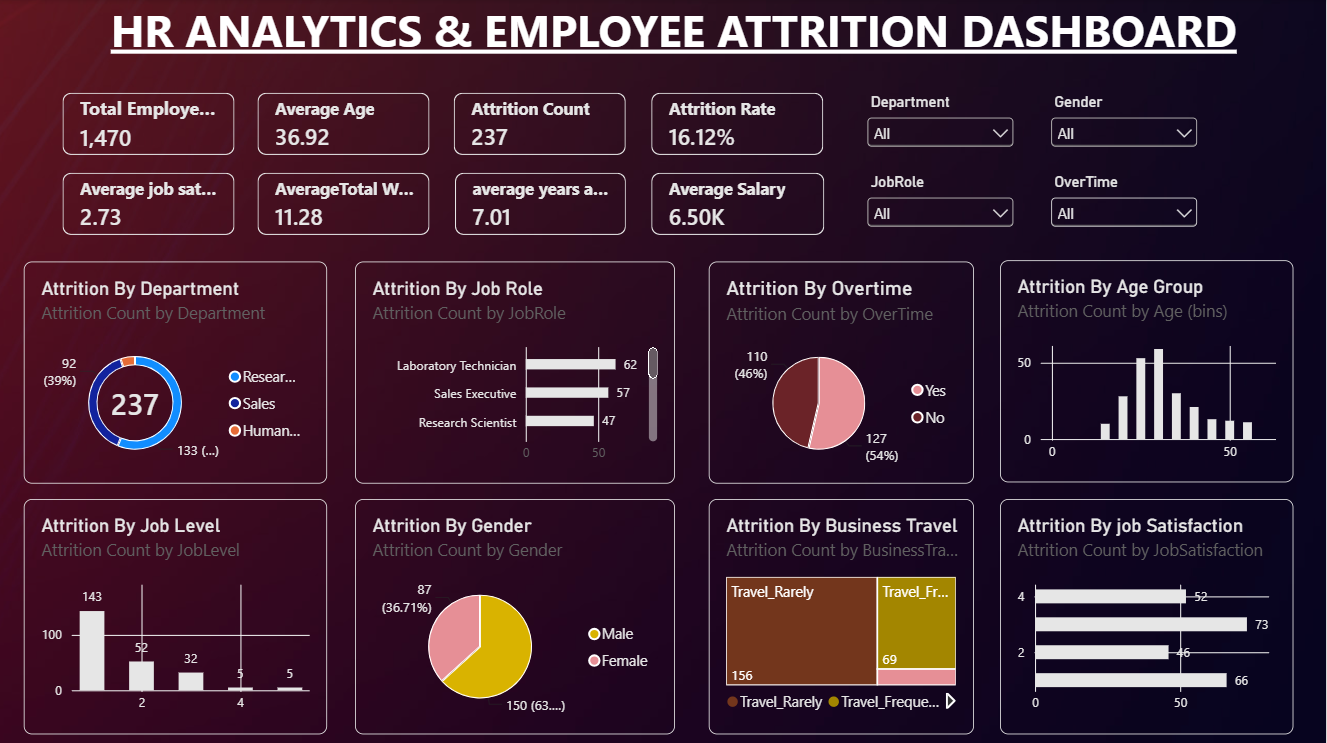

This screenshot's page, from the dashboard's own definition file:
{"tool":"powerbi","page":{"name":"Page 1","canvas":[1280,720],"ordinal":0},"visuals":[{"type":"cardVisual","fields":{"Data":["Table1.Total Employees Display"]},"box":[60.3,90.5,166.5,60.3],"z":0},{"type":"cardVisual","fields":{"Data":["Table1.Attrition Count"]},"box":[437.9,90.5,166.5,60.3],"z":1000},{"type":"cardVisual","fields":{"Data":["Table1.Attrition Rate"]},"box":[628.6,90.5,166.5,60.3],"z":2000},{"type":"cardVisual","fields":{"Data":["Table1.Average Age"]},"box":[248.5,90.5,166.5,60.3],"z":3000},{"type":"cardVisual","fields":{"Data":["Table1.Average Salary"]},"box":[628.6,167.7,167.7,60.3],"z":4000},{"type":"cardVisual","fields":{"Data":["Table1.average years at company"]},"box":[439.1,167.7,165.3,60.3],"z":5000},{"type":"cardVisual","fields":{"Data":["Table1.AverageTotal Working years"]},"box":[248.5,167.7,166.5,60.3],"z":6000},{"type":"cardVisual","fields":{"Data":["Table1.Average job satisfaction"]},"box":[60.3,167.7,166.5,60.3],"z":7000},{"type":"donutChart","title":"Attrition By Department","fields":{"Category":["Table1.Department"],"Y":["Table1.Attrition Count"]},"box":[22.9,253.4,293.2,214.7],"z":8000},{"type":"clusteredBarChart","title":"Attrition By Job Role","fields":{"Category":["Table1.JobRole"],"Y":["Table1.Attrition Count"]},"box":[342.6,253.4,308.8,214.7],"z":9000},{"type":"pieChart","title":"Attrition By Overtime","fields":{"Category":["Table1.OverTime"],"Y":["Table1.Attrition Count"]},"box":[684.1,253.4,255.8,214.7],"z":10000},{"type":"clusteredColumnChart","title":"Attrition By Age Group","fields":{"Category":["Table1.Age (bins)"],"Y":["Table1.Attrition Count"]},"box":[965.2,253.4,283.5,214.7],"z":11000},{"type":"clusteredBarChart","title":"Attrition By job Satisfaction","fields":{"Category":["Table1.JobSatisfaction"],"Y":["Table1.Attrition Count"]},"box":[965.2,482.6,283.5,226.8],"z":12000},{"type":"pieChart","title":"Attrition By Gender","fields":{"Category":["Table1.Gender"],"Y":["Table1.Attrition Count"]},"box":[342.6,482.6,308.8,226.8],"z":14000},{"type":"clusteredColumnChart","title":"Attrition By Job Level","fields":{"Category":["Table1.JobLevel"],"Y":["Table1.Attrition Count"]},"box":[22.9,482.6,293.2,226.8],"z":15000},{"type":"treemap","title":"Attrition By Business Travel","fields":{"Group":["Table1.BusinessTravel"],"Values":["Table1.Attrition Count"]},"box":[684.1,482.6,255.8,226.8],"z":17000},{"type":"slicer","fields":{"Values":["Table1.Department"]},"box":[832.4,90.5,150.8,65.1],"z":17001},{"type":"slicer","fields":{"Values":["Table1.OverTime"]},"box":[1009.8,167.7,150.8,65.1],"z":17002},{"type":"slicer","fields":{"Values":["Table1.Gender"]},"box":[1009.8,90.5,150.8,56.7],"z":17003},{"type":"slicer","fields":{"Values":["Table1.JobRole"]},"box":[832.4,167.7,150.8,56.7],"z":17004},{"type":"textbox","box":[60.3,0,1179.9,73.6],"z":17005}]}

Visuals, with their boxes in screenshot pixels (x1, y1, x2, y2), scaled from the page's 1280x720 canvas onto the 1327x743 screenshot:
cardVisual - Table1.Total Employees Display: Rect(63, 93, 235, 156)
cardVisual - Table1.Attrition Count: Rect(454, 93, 627, 156)
cardVisual - Table1.Attrition Rate: Rect(652, 93, 824, 156)
cardVisual - Table1.Average Age: Rect(258, 93, 430, 156)
cardVisual - Table1.Average Salary: Rect(652, 173, 826, 235)
cardVisual - Table1.average years at company: Rect(455, 173, 627, 235)
cardVisual - Table1.AverageTotal Working years: Rect(258, 173, 430, 235)
cardVisual - Table1.Average job satisfaction: Rect(63, 173, 235, 235)
"Attrition By Department" donutChart: Rect(24, 261, 328, 483)
"Attrition By Job Role" clusteredBarChart: Rect(355, 261, 675, 483)
"Attrition By Overtime" pieChart: Rect(709, 261, 974, 483)
"Attrition By Age Group" clusteredColumnChart: Rect(1001, 261, 1295, 483)
"Attrition By job Satisfaction" clusteredBarChart: Rect(1001, 498, 1295, 732)
"Attrition By Gender" pieChart: Rect(355, 498, 675, 732)
"Attrition By Job Level" clusteredColumnChart: Rect(24, 498, 328, 732)
"Attrition By Business Travel" treemap: Rect(709, 498, 974, 732)
slicer - Table1.Department: Rect(863, 93, 1019, 161)
slicer - Table1.OverTime: Rect(1047, 173, 1203, 240)
slicer - Table1.Gender: Rect(1047, 93, 1203, 152)
slicer - Table1.JobRole: Rect(863, 173, 1019, 232)
textbox: Rect(63, 0, 1286, 76)
